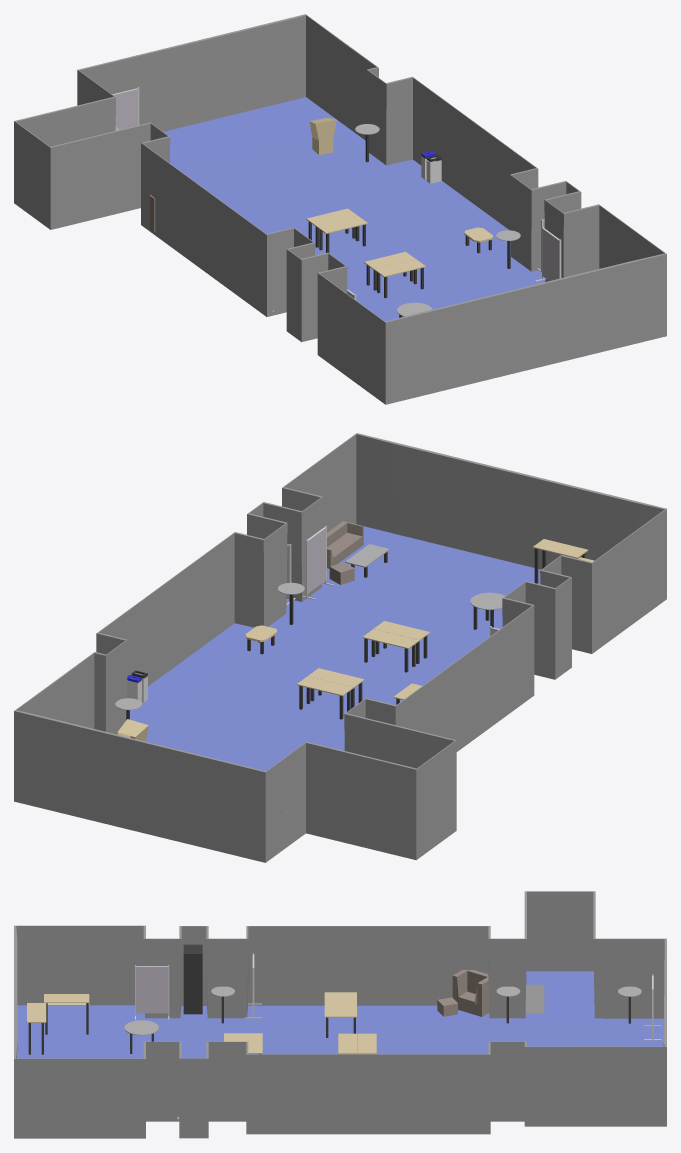
The model's file is InnovationLab_rebuild_v008.glb.
3 renders of one model, top to bottom at view 1: azimuth 30°, elevation 25°; view 2: azimuth 150°, elevation 25°; view 3: azimuth 270°, elevation 25°, orthographic. The views are drawn at different scales.
Visible parts, largest first — view 1: Cube.051, whiteboard, whiteboard.004, podium; view 2: Cube.051, whiteboard, longCouch; view 3: Cube.051, whiteboard.002, cubeCouch, server_Tower, longWideTable, largeBin, wideCircleTable, longTable, longTable.001, standingDesk, standingDesk.001.
Part boxes in pixels (bbox=[...]): Cube.051: bbox=[14, 14, 666, 404]; whiteboard: bbox=[535, 227, 561, 281]; whiteboard.004: bbox=[112, 87, 139, 129]; podium: bbox=[309, 118, 336, 155]; Cube.051: bbox=[14, 433, 666, 862]; whiteboard: bbox=[303, 525, 334, 599]; longCouch: bbox=[327, 521, 363, 568]; Cube.051: bbox=[14, 891, 666, 1138]; whiteboard.002: bbox=[135, 965, 169, 1020]; cubeCouch: bbox=[452, 970, 489, 1016]; server_Tower: bbox=[183, 944, 202, 1014]; longWideTable: bbox=[324, 992, 356, 1017]; largeBin: bbox=[525, 984, 544, 1013]; wideCircleTable: bbox=[124, 1020, 158, 1035]; longTable: bbox=[338, 1033, 357, 1054]; longTable.001: bbox=[357, 1033, 376, 1054]; standingDesk: bbox=[44, 994, 89, 1002]; standingDesk.001: bbox=[27, 1003, 46, 1022].
Bounding box in the file's own units: 12.68 × 2.85 × 20.89.
